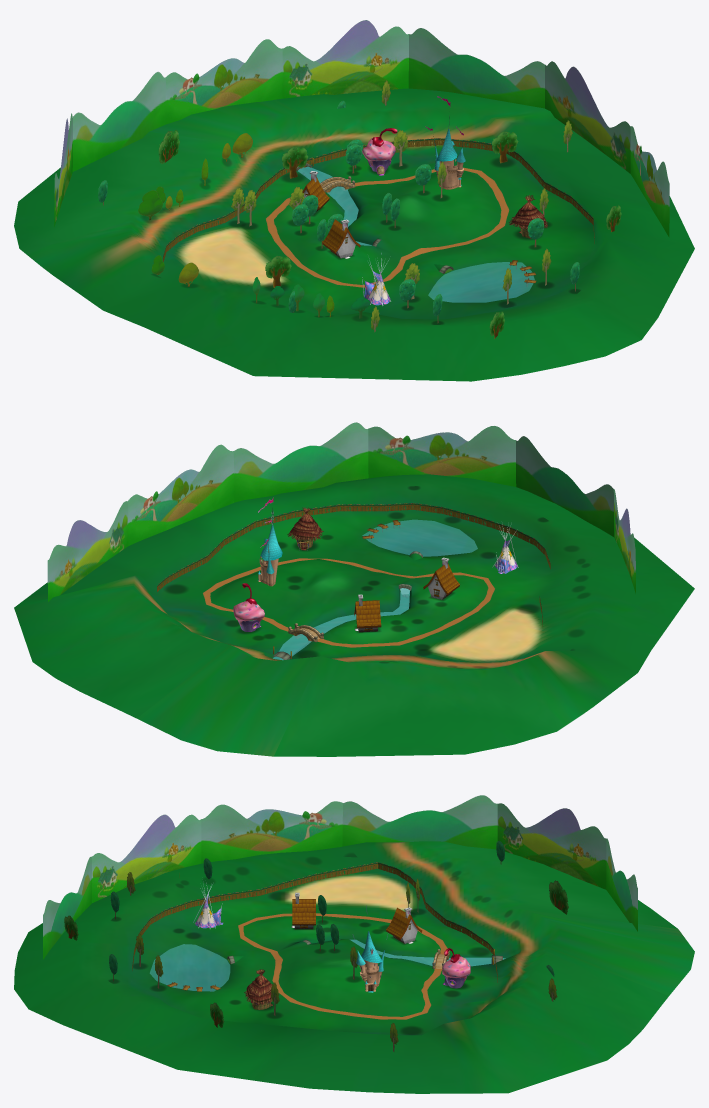
The model's file is toon_estate.glb.
3 views of the same model, one above another, from view 1: azimuth 30°, elevation 25°; view 2: azimuth 150°, elevation 25°; view 3: azimuth 270°, elevation 25° (orthographic). The views are drawn at different scales.
Parts seen in each view (by area): view 1: terrain2, hill, waterpound, Path, fence11, fence12, lake, fence14, p273_23__billboard; view 2: terrain2, hill, waterpound, fence1, Path, lake, fence14, roof_outside, top; view 3: terrain2, hill, waterpound, Path, fence13, fence12, lake, roof_outside, top.
Boxes of the visible parts, <box> form: terrain2: <box>14,88,694,381</box>; hill: <box>54,20,669,237</box>; waterpound: <box>428,262,534,302</box>; Path: <box>266,167,509,287</box>; fence11: <box>300,138,492,168</box>; fence12: <box>163,168,290,261</box>; lake: <box>298,166,371,245</box>; fence14: <box>506,151,593,224</box>; p273_23__billboard: <box>282,146,308,178</box>; terrain2: <box>14,474,694,756</box>; hill: <box>47,422,635,601</box>; waterpound: <box>362,519,477,556</box>; fence1: <box>256,503,545,554</box>; Path: <box>203,558,494,647</box>; lake: <box>273,588,409,660</box>; fence14: <box>157,521,255,591</box>; roof_outside: <box>355,600,381,626</box>; top: <box>233,601,264,625</box>; terrain2: <box>14,841,694,1093</box>; hill: <box>43,795,637,959</box>; waterpound: <box>150,944,230,991</box>; Path: <box>238,913,447,1019</box>; fence13: <box>165,862,377,915</box>; fence12: <box>378,862,493,954</box>; lake: <box>339,939,505,966</box>; roof_outside: <box>292,899,315,923</box>; top: <box>442,956,470,981</box>.
Size of the model in its own units: 473 by 93.71 by 535.
69 materials, 60 textured.
